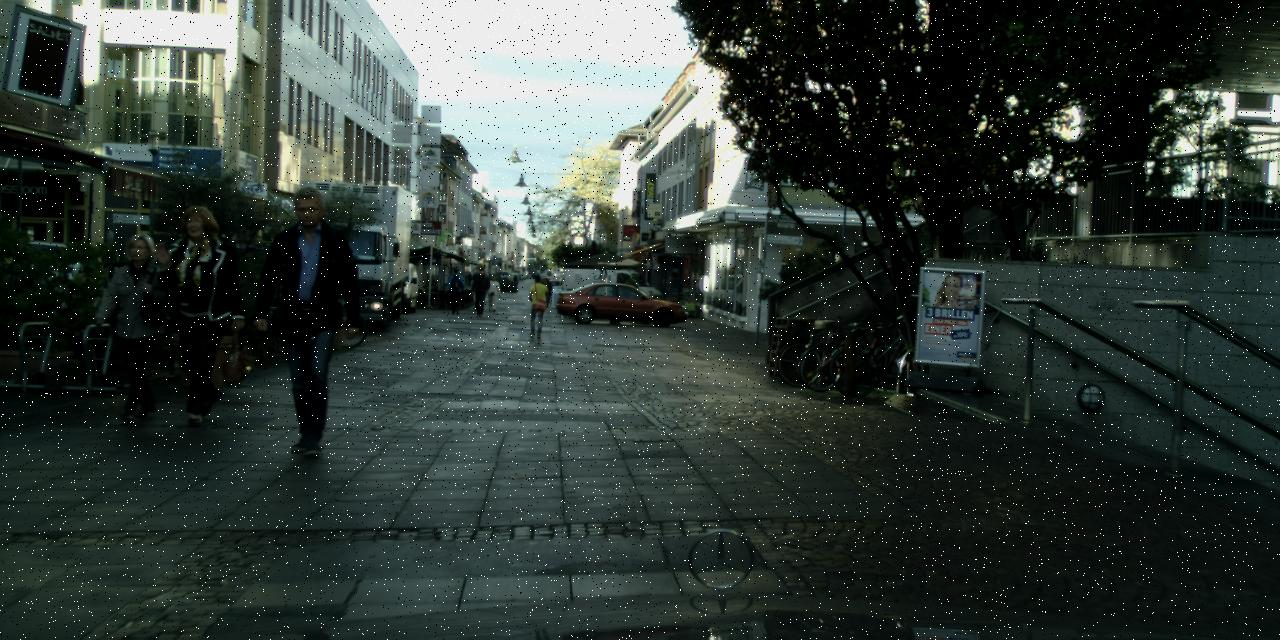ped: (254, 186, 363, 453), (153, 206, 240, 420), (101, 233, 177, 418), (523, 274, 548, 336), (470, 266, 490, 315), (446, 268, 464, 313), (486, 276, 500, 310), (543, 278, 553, 302), (467, 273, 472, 285)
